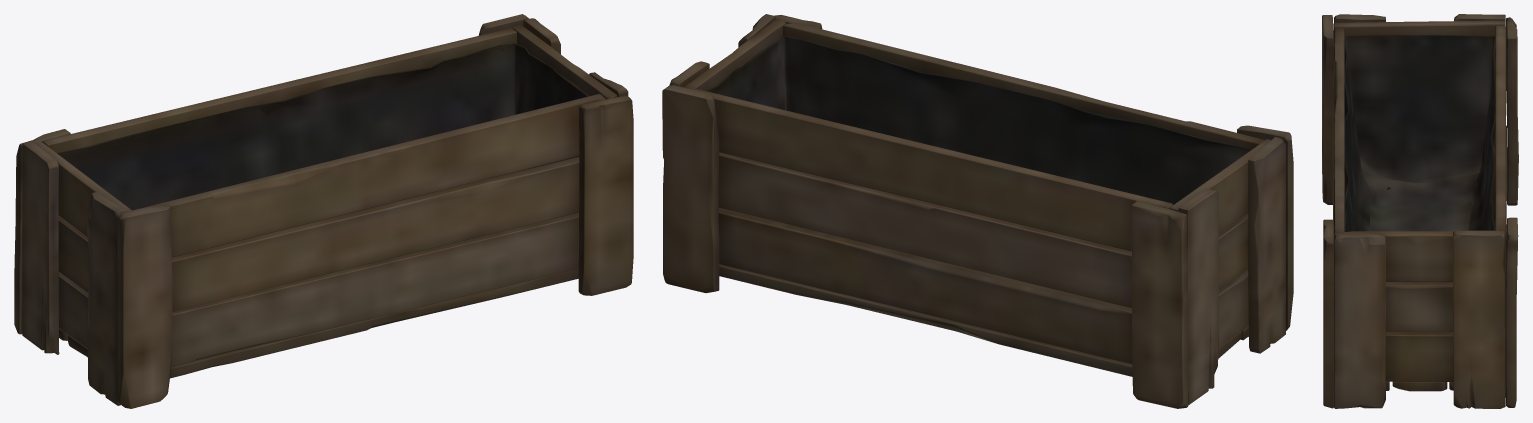
File: ph_planter_2.glb
The picture shows the model from 3 angles, left to right: view 1: azimuth 30°, elevation 25°; view 2: azimuth 150°, elevation 25°; view 3: azimuth 270°, elevation 25°; orthographic projection. The views are drawn at different scales.
Parts seen in each view (by area): view 1: ph_planter_2; view 2: ph_planter_2; view 3: ph_planter_2.
Part boxes in pixels (x1,y1,x2,y2): ph_planter_2: [14, 14, 633, 408]; ph_planter_2: [662, 14, 1293, 408]; ph_planter_2: [1322, 14, 1518, 408].
Size of the model in its own units: 1.25 by 0.4534 by 0.4639.
1 material, 1 textured.
